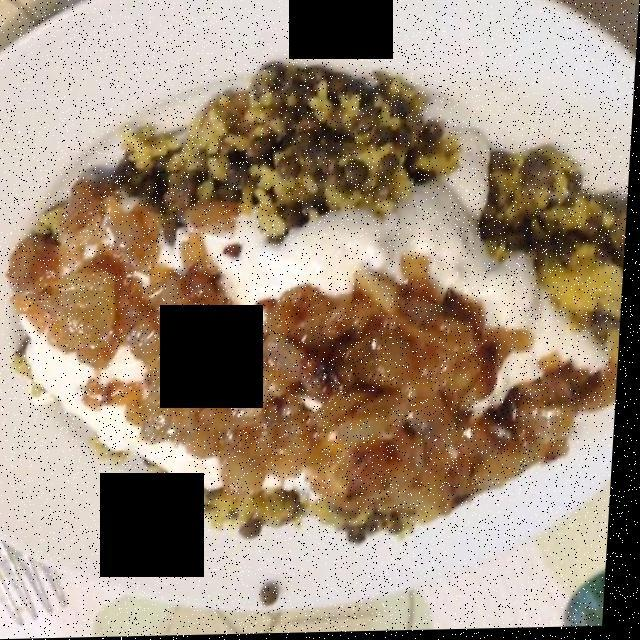lentils: (116, 76, 625, 270)
onion: (2, 176, 606, 534)
yogurt: (20, 127, 605, 487)
